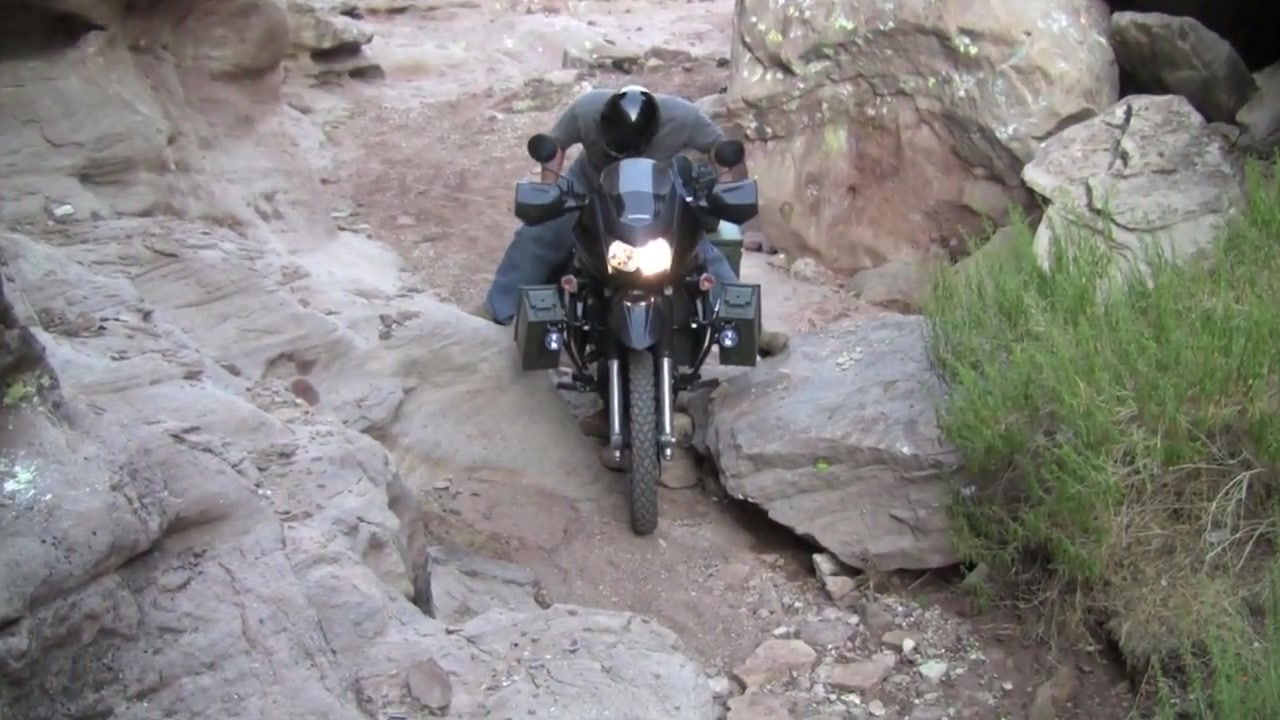motorbike: (511, 133, 767, 540)
